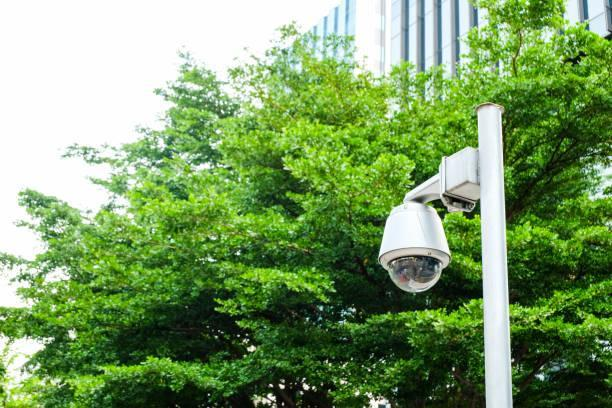camera: (350, 185, 478, 310)
